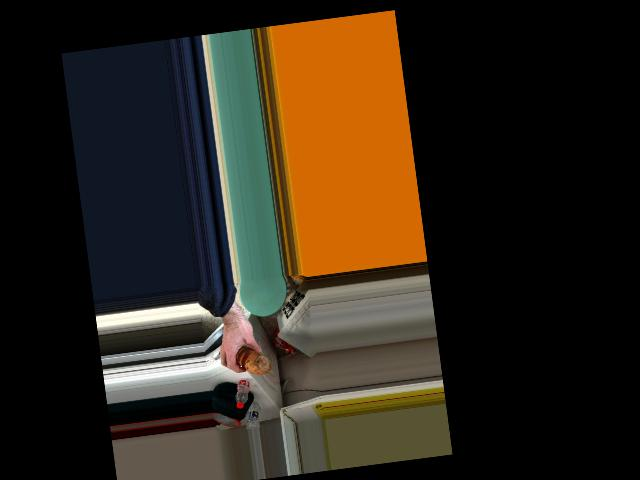sweet_potato: (237, 343, 271, 378)
